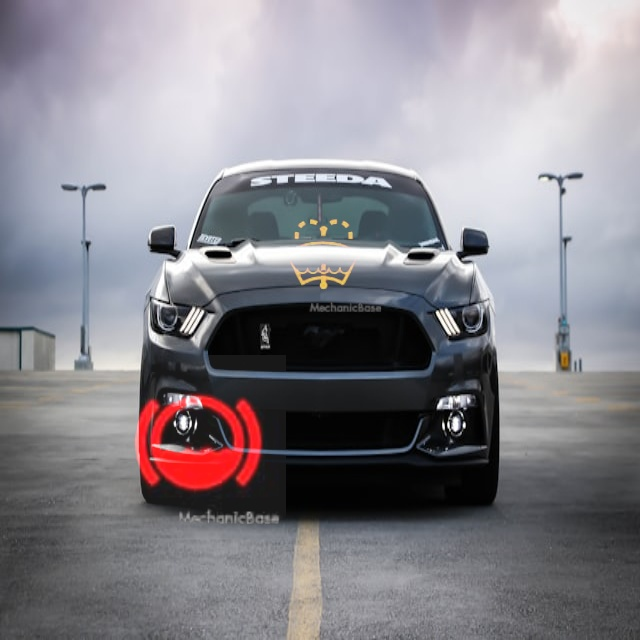symbol: (108, 355, 286, 533), (82, 20, 248, 186), (261, 193, 386, 318)
